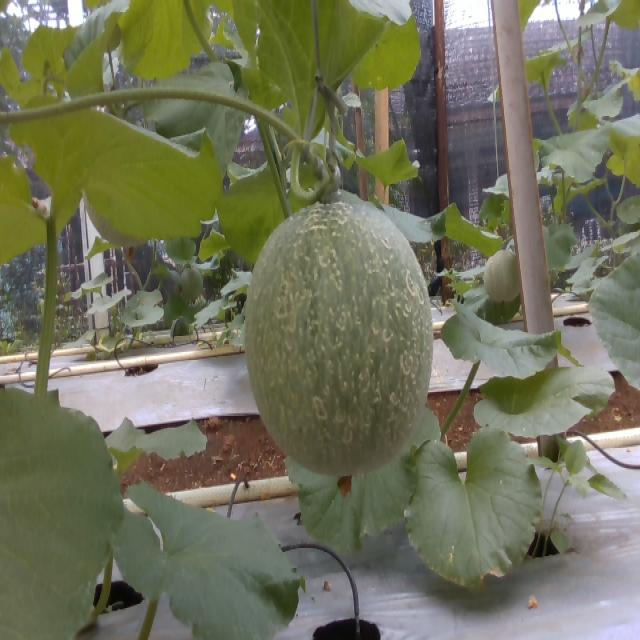melon: (246, 203, 433, 477)
